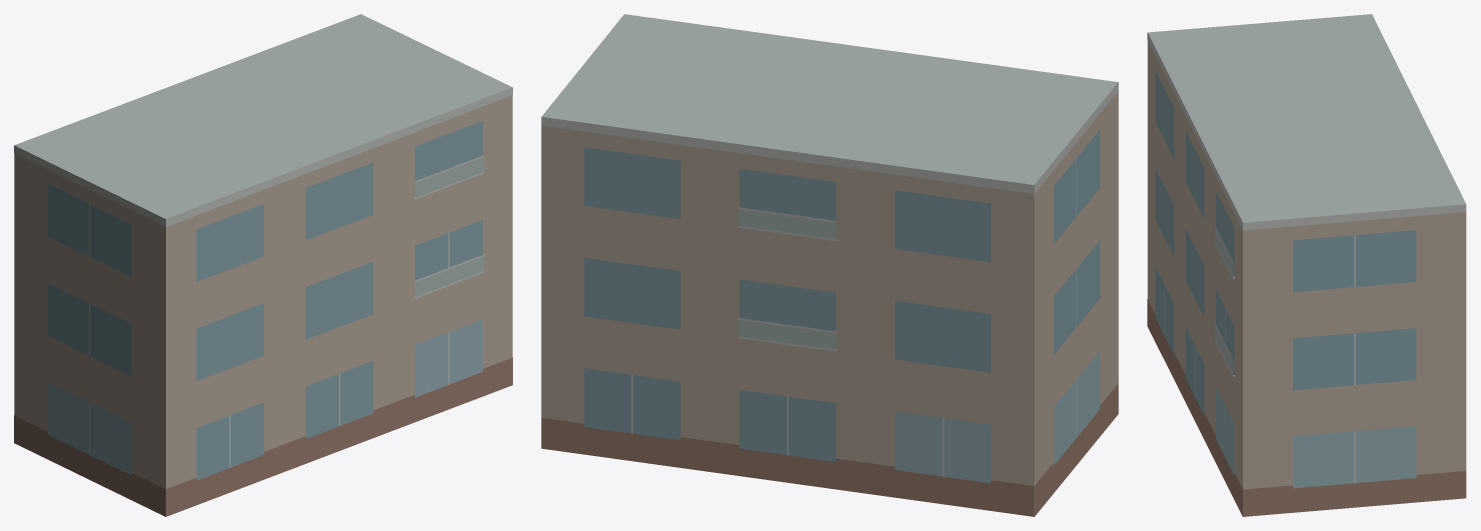
File: survey-upis-32908706.glb
3 views of the same model, side by side, from view 1: azimuth 30°, elevation 25°; view 2: azimuth 150°, elevation 25°; view 3: azimuth 270°, elevation 25° (orthographic). The views are drawn at different scales.
Visible parts, largest first — view 1: survey-upis-32908706.tmp; view 2: survey-upis-32908706.tmp; view 3: survey-upis-32908706.tmp.
Boxes of the visible parts, bbox=[...] form: survey-upis-32908706.tmp: bbox=[14, 14, 512, 516]; survey-upis-32908706.tmp: bbox=[541, 14, 1118, 516]; survey-upis-32908706.tmp: bbox=[1147, 14, 1466, 516].
Bounding box in the file's own units: 13.95 × 9.15 × 9.
